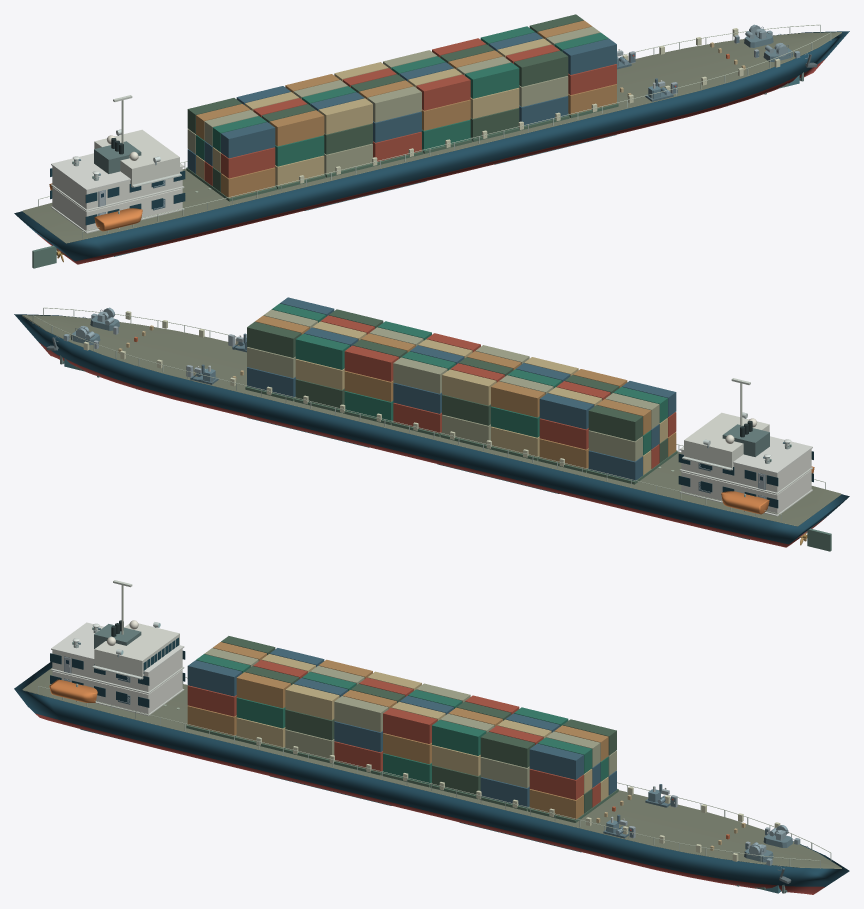
File: sendo-liner.lod0.glb
3 renders of one model, top to bottom at view 1: azimuth 30°, elevation 25°; view 2: azimuth 150°, elevation 25°; view 3: azimuth 330°, elevation 25°, orthographic.
Visible parts, largest first — view 1: sendo-liner.structure.hull.outer-hull-shell.1, sendo-liner.structure.decks.main-strength-deck.1, sendo-liner.structure.hull.antifouling-underwater-shell.1, sendo-liner.navigation.bridge.wheelhouse.1, sendo-liner.accommodation.superstructure.deck-1-enclosure.1, sendo-liner.accommodation.superstructure.deck-2-enclosure.1, sendo-liner.cargo.container-stacks.bay-3-row-5-tier-3.1, sendo-liner.cargo.container-stacks.bay-9-row-5-tier-3.1, sendo-liner.cargo.container-stacks.bay-4-row-5-tier-3.1, sendo-liner.cargo.container-stacks.bay-8-row-5-tier-3.1, sendo-liner.accommodation.superstructure.superstructure-weat, sendo-liner.cargo.container-stacks.bay-6-row-5-tier-3.1 (+25 smaller); view 2: sendo-liner.structure.hull.outer-hull-shell.1, sendo-liner.structure.decks.main-strength-deck.1, sendo-liner.structure.hull.antifouling-underwater-shell.1, sendo-liner.navigation.bridge.wheelhouse.1, sendo-liner.accommodation.superstructure.deck-1-enclosure.1, sendo-liner.accommodation.superstructure.deck-2-enclosure.1, sendo-liner.cargo.container-stacks.bay-3-row-1-tier-3.1, sendo-liner.cargo.container-stacks.bay-9-row-1-tier-3.1, sendo-liner.cargo.container-stacks.bay-4-row-1-tier-3.1, sendo-liner.cargo.container-stacks.bay-8-row-1-tier-3.1, sendo-liner.accommodation.superstructure.superstructure-weat, sendo-liner.cargo.container-stacks.bay-6-row-1-tier-3.1 (+25 smaller); view 3: sendo-liner.structure.hull.outer-hull-shell.1, sendo-liner.structure.decks.main-strength-deck.1, sendo-liner.structure.hull.antifouling-underwater-shell.1, sendo-liner.navigation.bridge.wheelhouse.1, sendo-liner.accommodation.superstructure.deck-1-enclosure.1, sendo-liner.accommodation.superstructure.deck-2-enclosure.1, sendo-liner.cargo.container-stacks.bay-10-row-5-tier-3.1, sendo-liner.cargo.container-stacks.bay-4-row-5-tier-3.1, sendo-liner.cargo.container-stacks.bay-5-row-5-tier-3.1, sendo-liner.cargo.container-stacks.bay-9-row-5-tier-3.1, sendo-liner.cargo.container-stacks.bay-3-row-5-tier-3.1, sendo-liner.cargo.container-stacks.bay-6-row-5-tier-3.1 (+21 smaller).
Part boxes in pixels (<box>): sendo-liner.structure.hull.outer-hull-shell.1: <box>14,31,849,261</box>; sendo-liner.structure.decks.main-strength-deck.1: <box>22,32,841,243</box>; sendo-liner.structure.hull.antifouling-underwater-shell.1: <box>37,59,824,264</box>; sendo-liner.navigation.bridge.wheelhouse.1: <box>94,129,179,187</box>; sendo-liner.accommodation.superstructure.deck-1-enclosure.1: <box>52,187,182,231</box>; sendo-liner.accommodation.superstructure.deck-2-enclosure.1: <box>52,166,182,209</box>; sendo-liner.cargo.container-stacks.bay-3-row-5-tier-3.1: <box>221,122,275,158</box>; sendo-liner.cargo.container-stacks.bay-9-row-5-tier-3.1: <box>514,50,568,86</box>; sendo-liner.cargo.container-stacks.bay-4-row-5-tier-3.1: <box>269,110,324,146</box>; sendo-liner.cargo.container-stacks.bay-8-row-5-tier-3.1: <box>465,62,519,98</box>; sendo-liner.accommodation.superstructure.superstructure-weat: <box>51,153,184,190</box>; sendo-liner.cargo.container-stacks.bay-6-row-5-tier-3.1: <box>367,86,421,122</box>; sendo-liner.structure.hull.outer-hull-shell.1: <box>14,314,849,544</box>; sendo-liner.structure.decks.main-strength-deck.1: <box>22,315,841,526</box>; sendo-liner.structure.hull.antifouling-underwater-shell.1: <box>39,342,826,547</box>; sendo-liner.navigation.bridge.wheelhouse.1: <box>684,412,769,470</box>; sendo-liner.accommodation.superstructure.deck-1-enclosure.1: <box>681,470,811,514</box>; sendo-liner.accommodation.superstructure.deck-2-enclosure.1: <box>681,449,811,492</box>; sendo-liner.cargo.container-stacks.bay-3-row-1-tier-3.1: <box>588,405,642,441</box>; sendo-liner.cargo.container-stacks.bay-9-row-1-tier-3.1: <box>295,333,349,369</box>; sendo-liner.cargo.container-stacks.bay-4-row-1-tier-3.1: <box>539,393,594,429</box>; sendo-liner.cargo.container-stacks.bay-8-row-1-tier-3.1: <box>344,345,398,381</box>; sendo-liner.accommodation.superstructure.superstructure-weat: <box>679,436,812,473</box>; sendo-liner.cargo.container-stacks.bay-6-row-1-tier-3.1: <box>442,369,496,405</box>; sendo-liner.structure.hull.outer-hull-shell.1: <box>14,662,849,886</box>; sendo-liner.structure.decks.main-strength-deck.1: <box>22,668,841,868</box>; sendo-liner.structure.hull.antifouling-underwater-shell.1: <box>35,713,824,894</box>; sendo-liner.navigation.bridge.wheelhouse.1: <box>94,623,179,679</box>; sendo-liner.accommodation.superstructure.deck-1-enclosure.1: <box>52,669,182,713</box>; sendo-liner.accommodation.superstructure.deck-2-enclosure.1: <box>52,649,182,691</box>; sendo-liner.cargo.container-stacks.bay-10-row-5-tier-3.1: <box>529,743,583,779</box>; sendo-liner.cargo.container-stacks.bay-4-row-5-tier-3.1: <box>236,672,290,708</box>; sendo-liner.cargo.container-stacks.bay-5-row-5-tier-3.1: <box>285,684,339,720</box>; sendo-liner.cargo.container-stacks.bay-9-row-5-tier-3.1: <box>480,731,534,767</box>; sendo-liner.cargo.container-stacks.bay-3-row-5-tier-3.1: <box>187,660,241,696</box>; sendo-liner.cargo.container-stacks.bay-6-row-5-tier-3.1: <box>334,696,388,732</box>.
Size of the model in its own units: 110 by 19.16 by 12.73.
